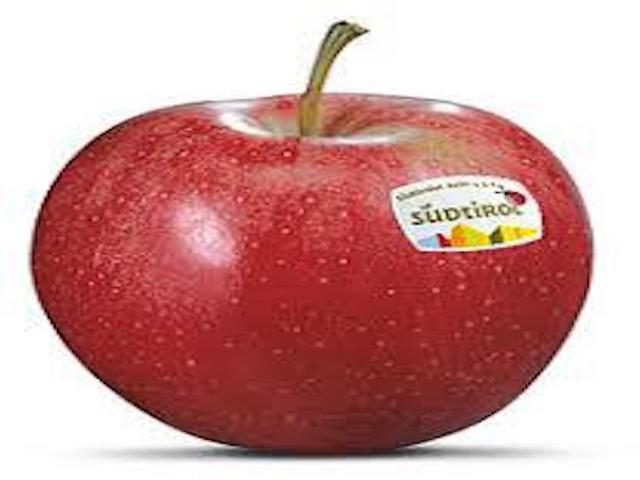apple: (25, 15, 602, 464)
